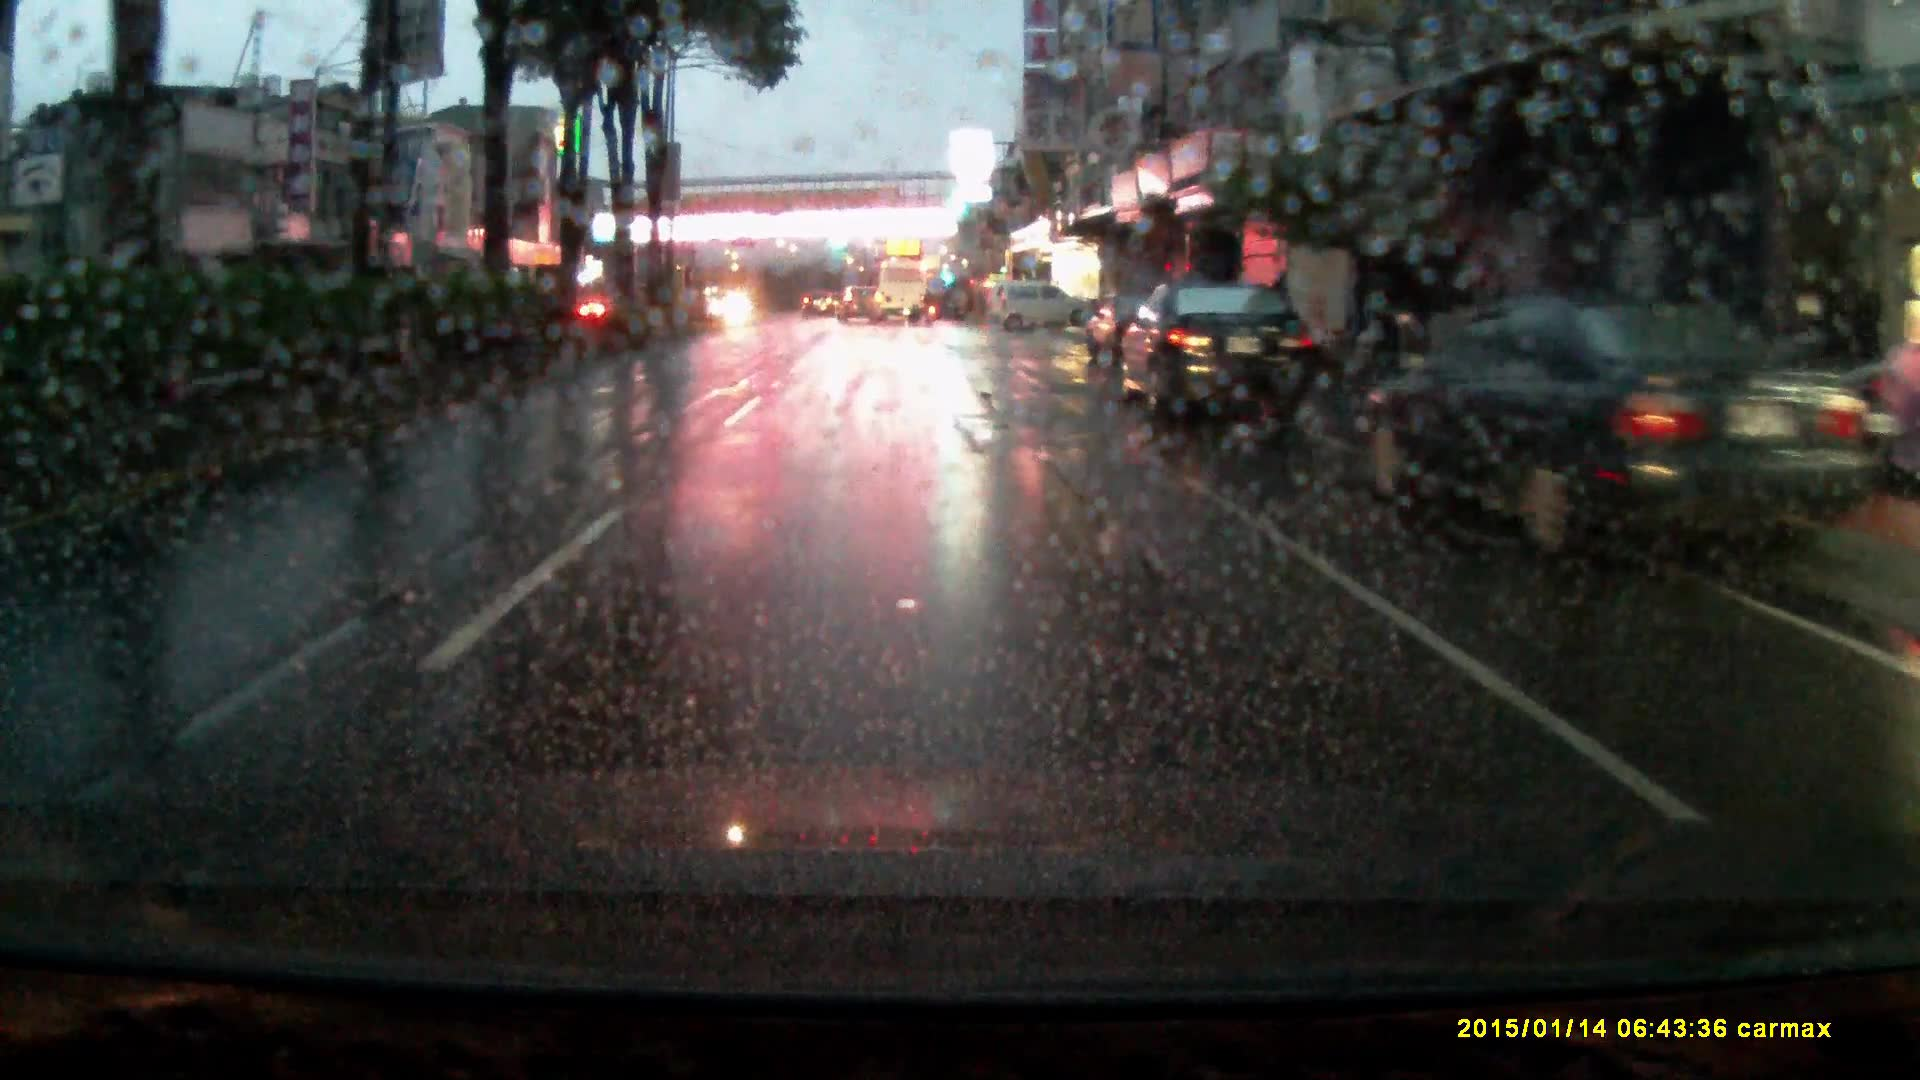vehicle: (1385, 305, 1828, 611), (1118, 285, 1315, 444), (1085, 295, 1153, 373), (998, 285, 1088, 335), (860, 262, 928, 326), (836, 294, 885, 336), (802, 298, 835, 328)
